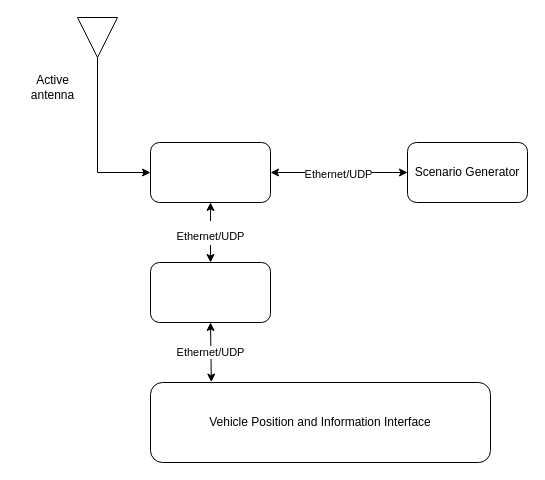
Some shapes in this 545 by 480 pixel diagram are drawn without their labels. Each missing label, with the centre of its shape:
Acquisition Server: [210,292]
Radio Circuit: [210,172]
